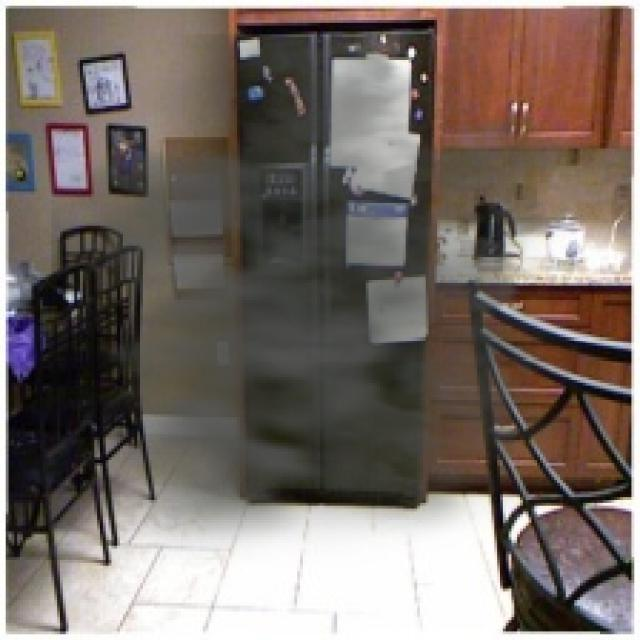Smoke: (51, 34, 620, 566)
